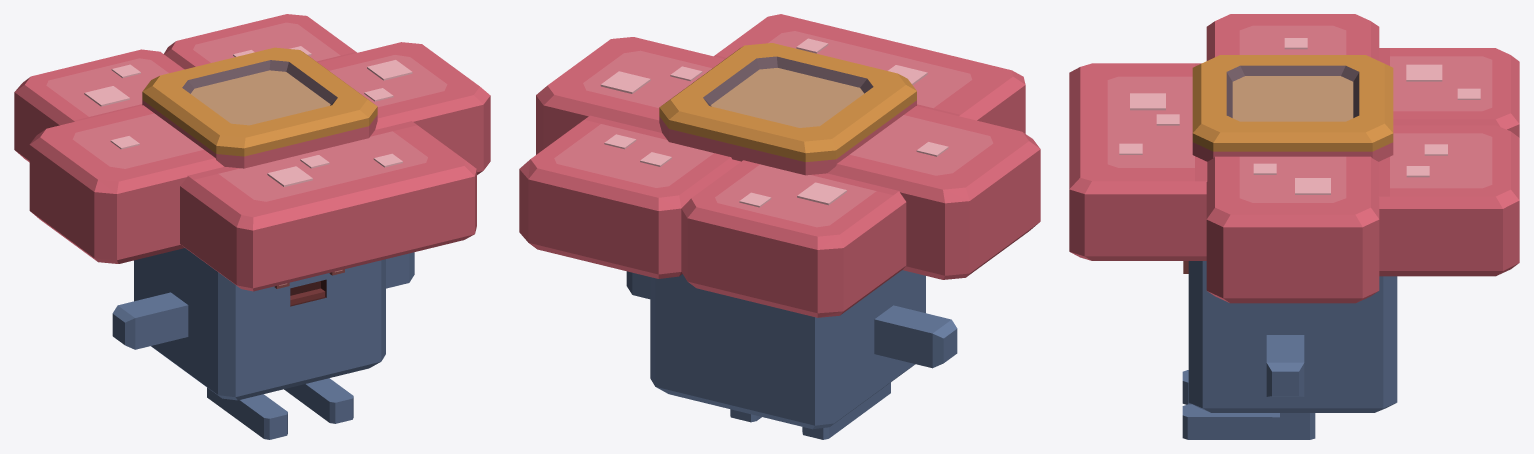
The picture shows the model from 3 angles, left to right: view 1: azimuth 30°, elevation 25°; view 2: azimuth 150°, elevation 25°; view 3: azimuth 270°, elevation 25°; orthographic projection. The views are drawn at different scales.
Visible parts, largest first — view 1: 0045_vileplume; view 2: 0045_vileplume; view 3: 0045_vileplume.
Boxes of the visible parts, x1,y1,x2,y2 form: 0045_vileplume: [14, 14, 490, 439]; 0045_vileplume: [519, 14, 1040, 439]; 0045_vileplume: [1069, 14, 1519, 439].
Bounding box in the file's own units: 2.85 × 2.06 × 2.61.
Materials: 1 (1 with a texture image).
